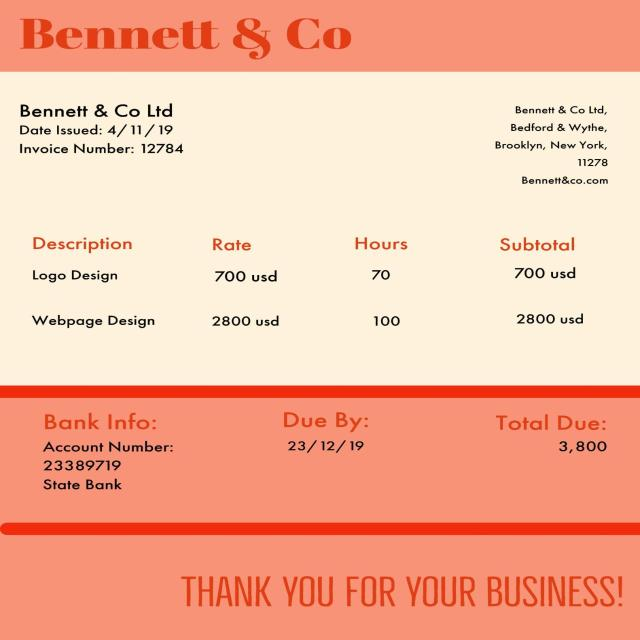paragraph: (183, 568, 627, 616), (8, 10, 364, 64), (33, 405, 172, 500), (495, 96, 623, 195), (15, 101, 198, 158), (270, 403, 385, 468), (492, 401, 616, 460)
table: (20, 224, 617, 347)
